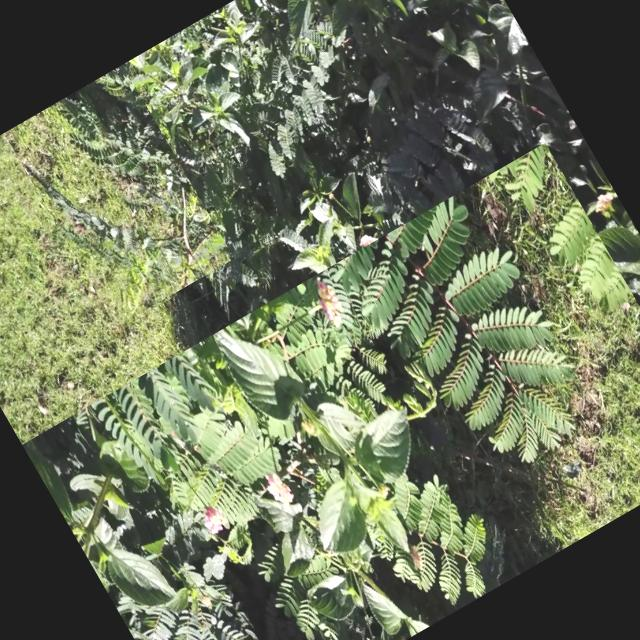Mysore-Thorn-Weed: (22, 142, 640, 640), (4, 65, 234, 326)
